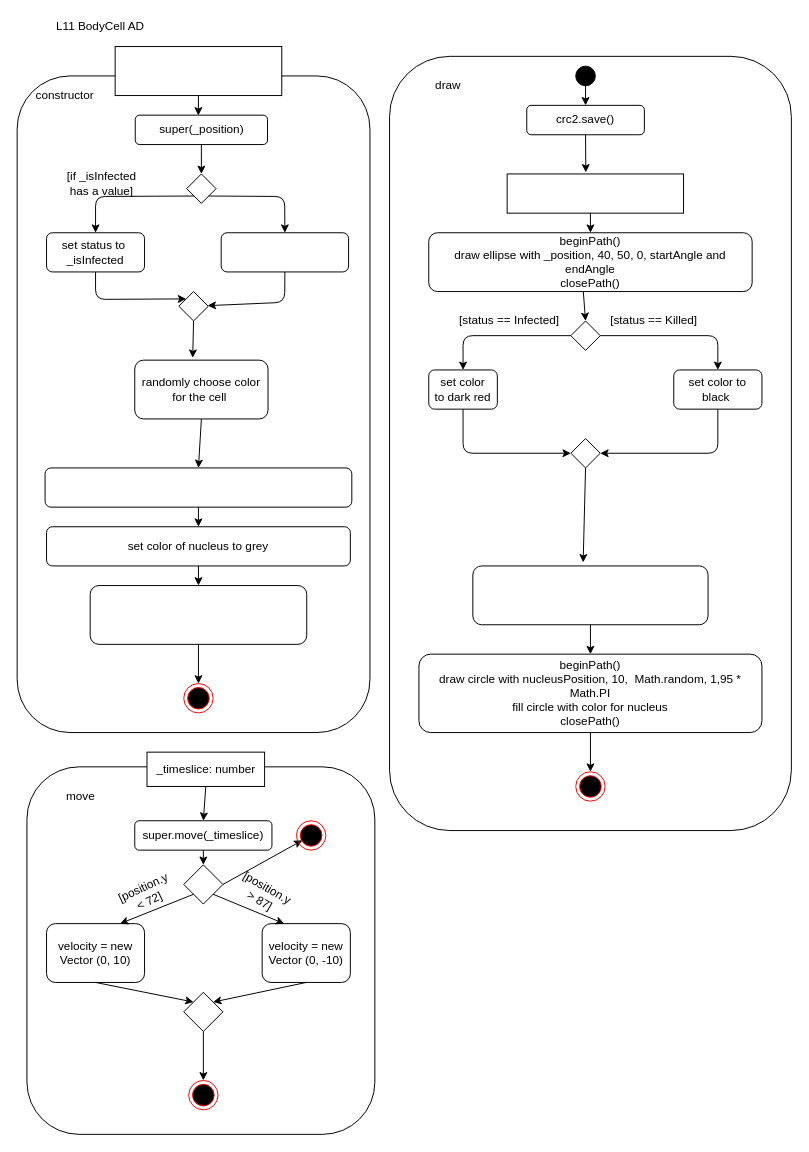
Some shapes in this 809 by 1152 pixel diagram are drawn without their labels. The shapes that lost their labels are listed below. From the top down, each one's box as (x1, y1, x2, y2) in pixels, then its label:
(114, 46, 282, 96): _position: Vector _isInfected?: STATE_BODYCELL
(506, 173, 684, 213): startAngle = (Math.Pi / 180) endAngle = (Math.PI( 180) *360
(220, 232, 349, 272): set status to normal
(44, 467, 352, 507): xPosition of Nucleus = _position.x +2 yPosition of Nucleus = _position.y - 2
(89, 585, 307, 644): add Vector to velocity with value (0, 12) set type to "BodyCell"
(472, 565, 708, 625): set stroke- and fill-Style to color of cell and apply them to ellipse
